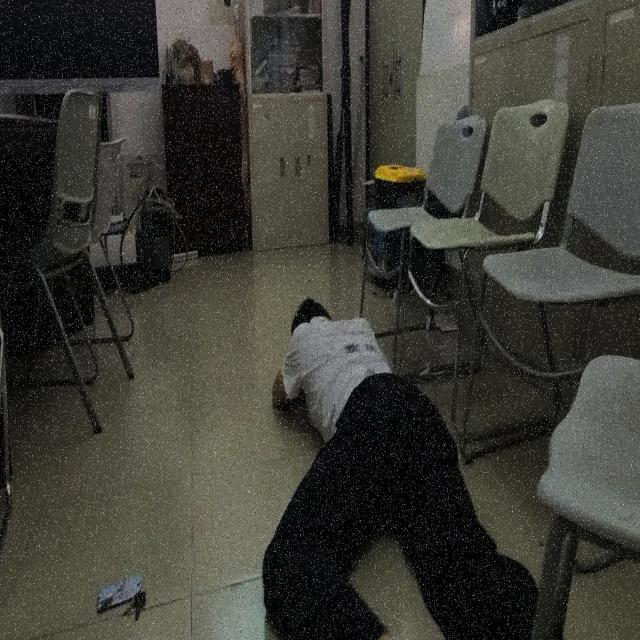fall: (268, 292, 566, 640)
